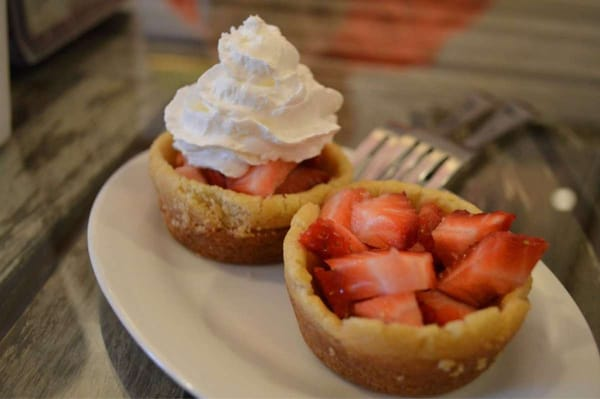curry: (1, 9, 571, 394)
salad: (282, 183, 549, 395)
sushi: (147, 13, 355, 264)
